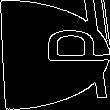P_W: (5, 36, 105, 74)
